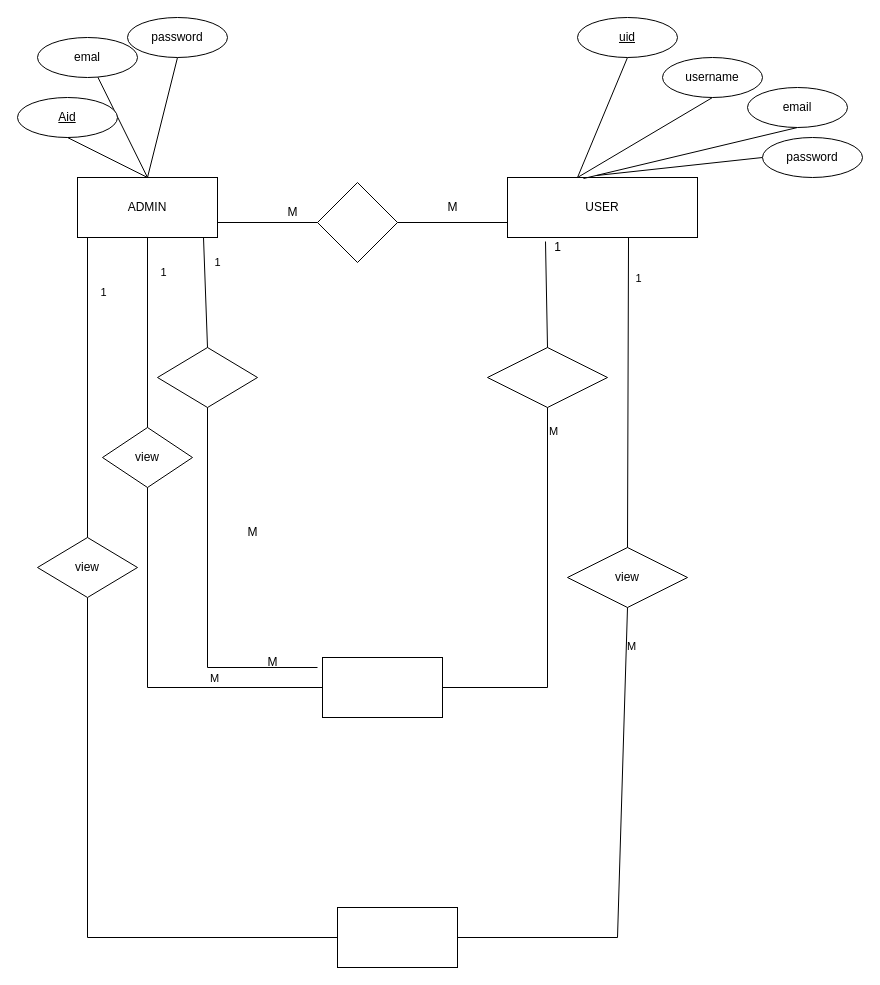
This 880x985 diagram has some shape labels left out. Each missing label, with the centre of its shape:
manage: (x=207, y=377)
MANAGES: (x=357, y=222)
predict: (x=547, y=377)
PREDICTION DETAILS: (x=397, y=937)
TRAINING DATASET: (x=382, y=687)
